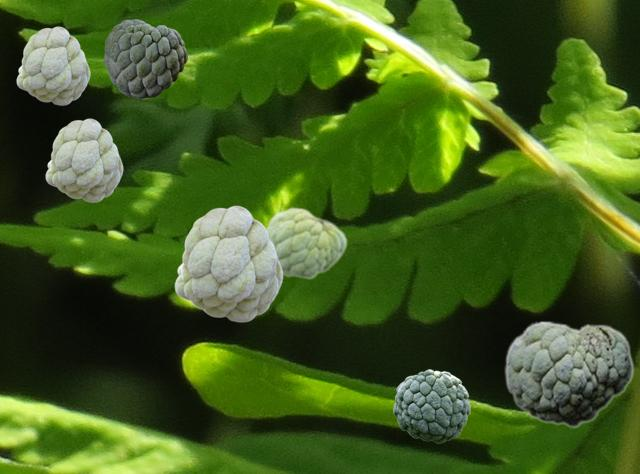atis: (504, 320, 633, 427), (174, 205, 282, 321), (104, 19, 186, 97), (45, 118, 122, 201), (266, 206, 346, 279), (16, 26, 89, 104), (393, 369, 469, 442)
